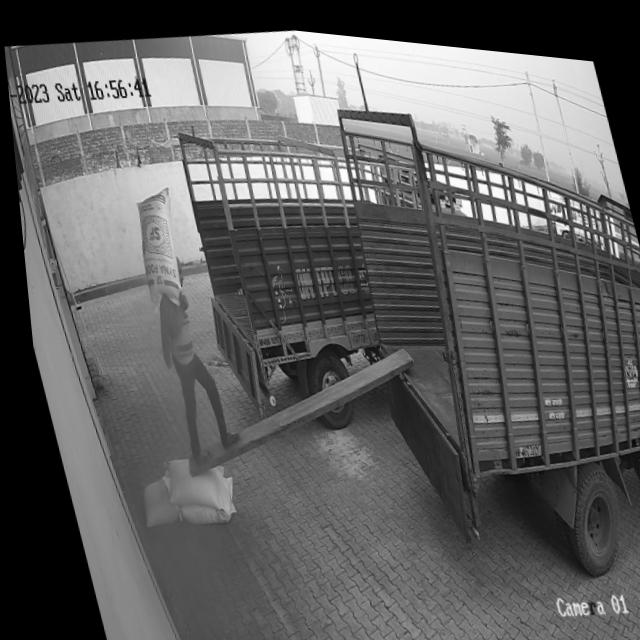sack: (119, 181, 192, 314), (150, 449, 226, 516), (158, 465, 232, 527), (124, 469, 174, 530)
